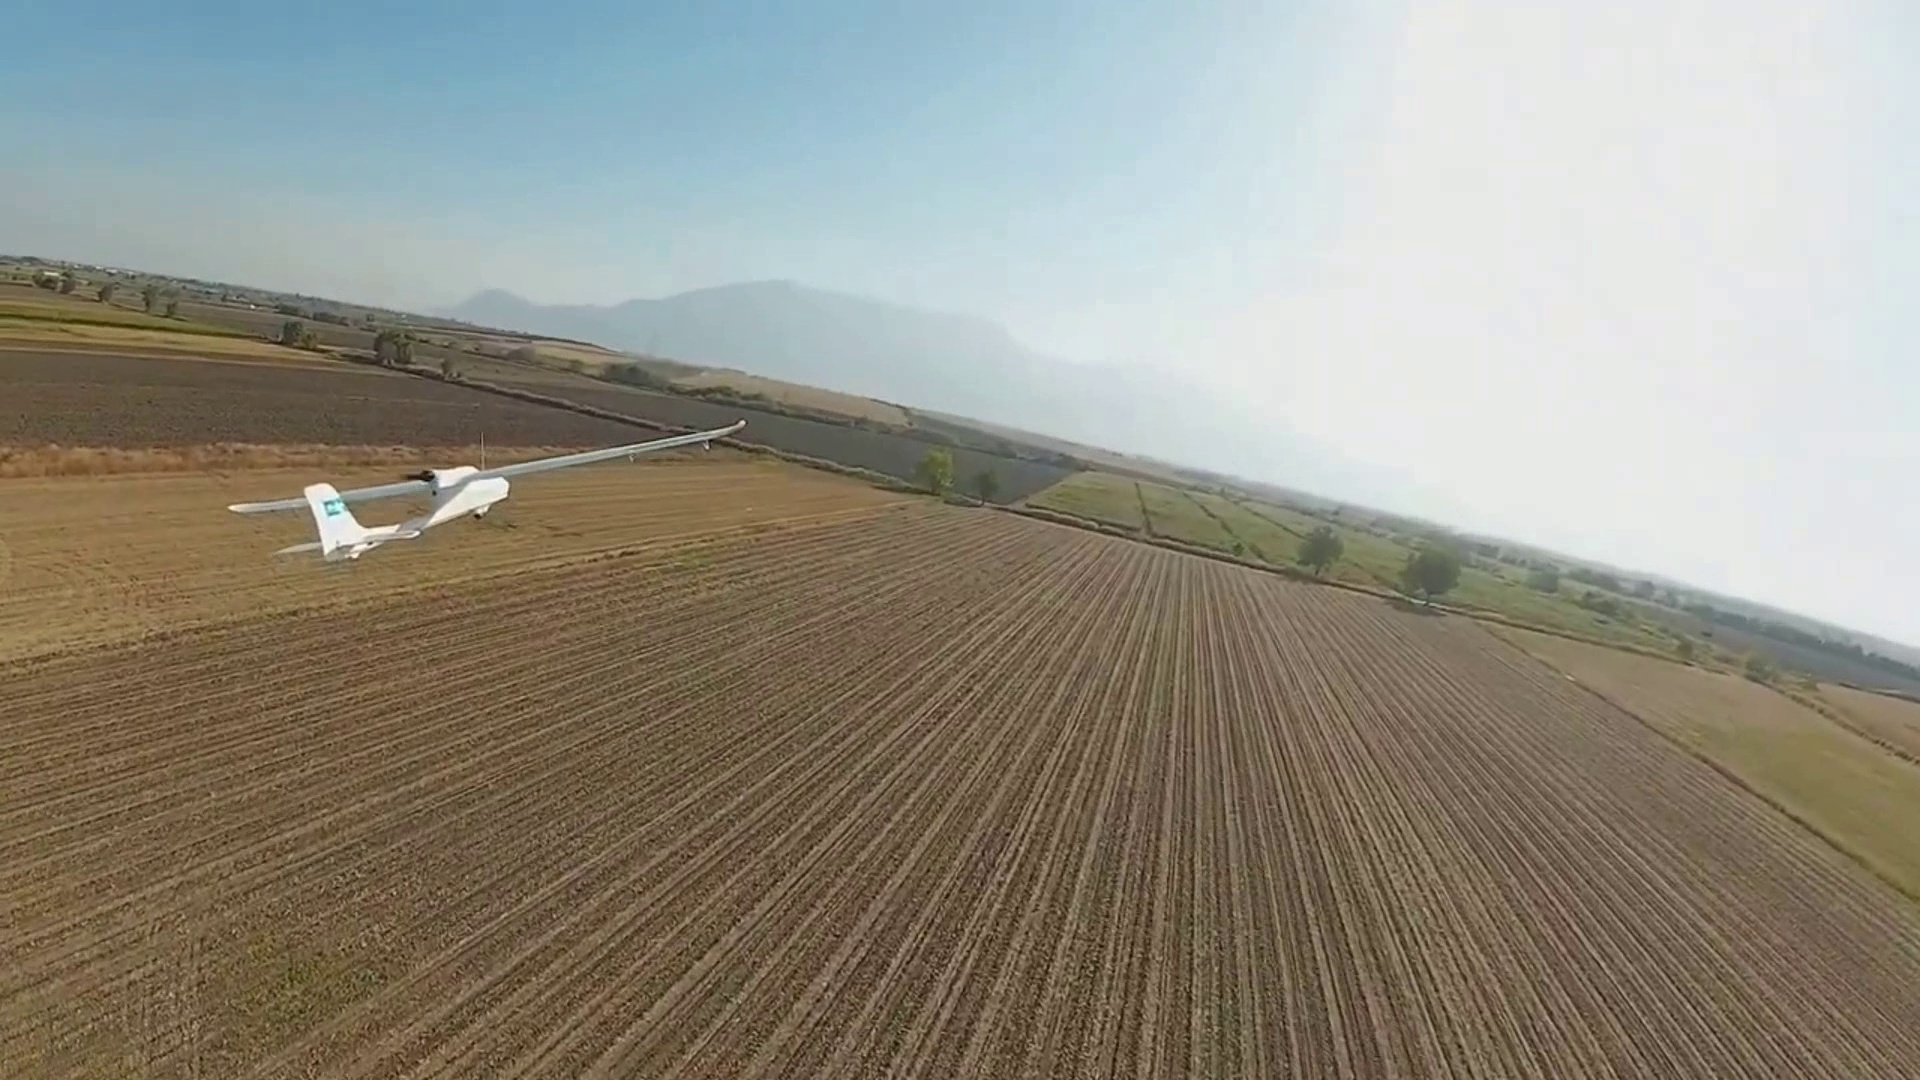airplane: (222, 465, 516, 560)
